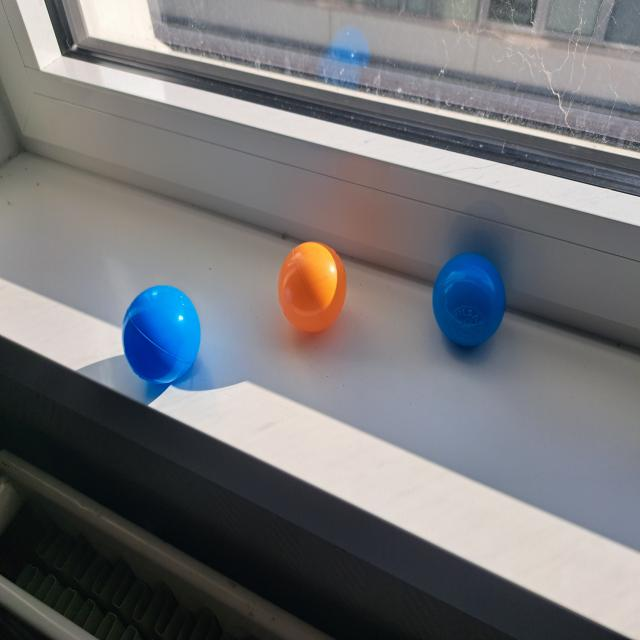blue: (122, 282, 200, 388), (432, 251, 507, 351)
orange: (278, 239, 346, 335)
